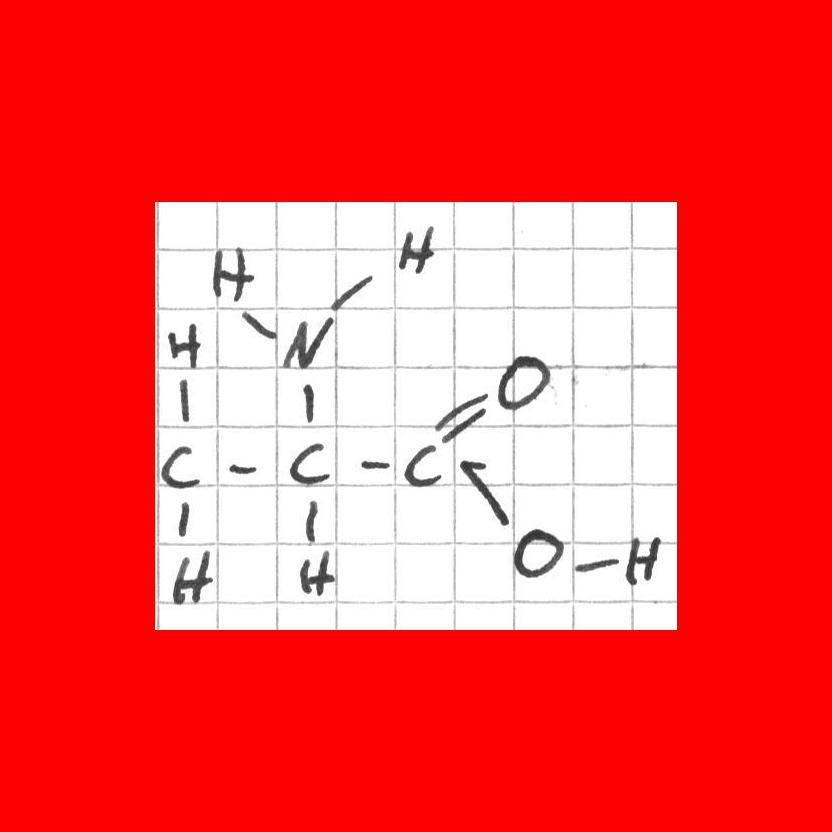Char: (491, 350, 554, 413), (505, 519, 567, 583), (281, 311, 339, 372), (164, 548, 219, 605), (211, 240, 256, 306), (619, 530, 666, 588), (395, 217, 437, 278), (286, 438, 336, 489), (291, 547, 338, 597), (158, 440, 203, 492), (401, 440, 443, 488), (166, 319, 205, 370), (573, 551, 620, 578), (300, 496, 324, 545), (296, 378, 319, 427), (175, 376, 196, 429), (358, 453, 395, 475), (173, 502, 195, 539), (225, 458, 261, 479)
